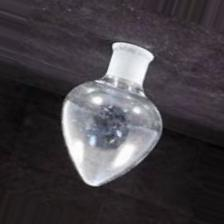Pear shaped flask: (58, 29, 166, 190)
